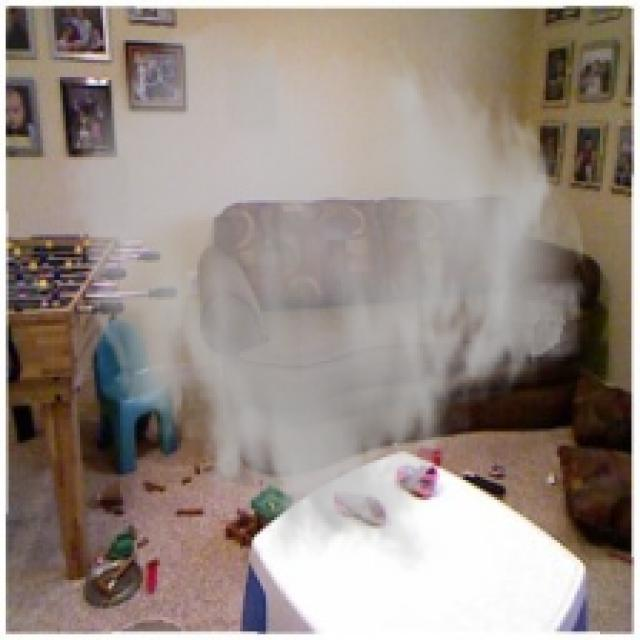smoke: (60, 17, 591, 574)
